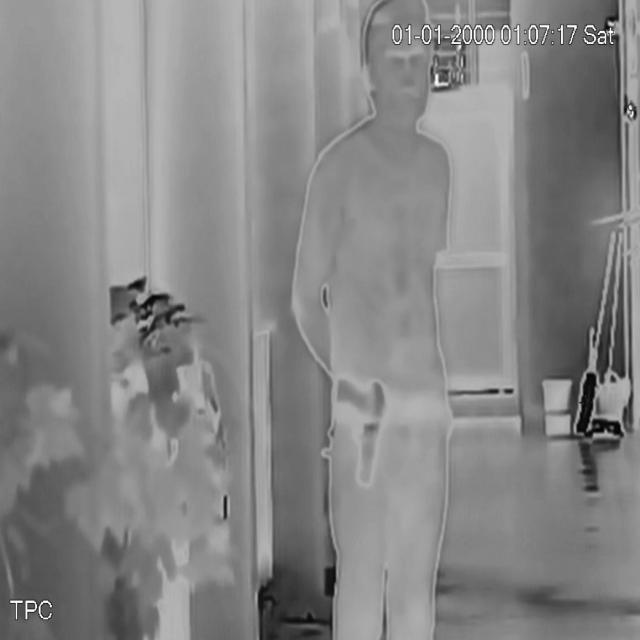Weapon: (328, 369, 395, 508)
